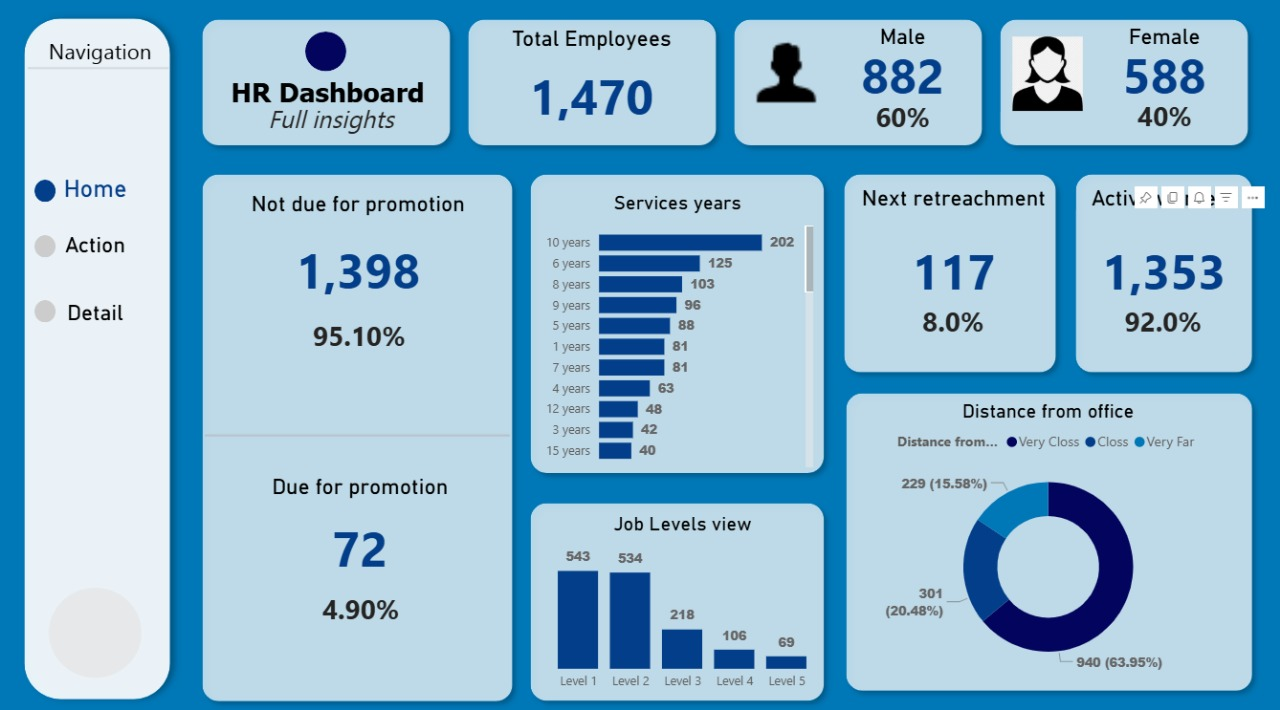

The page's visual inventory and layout, read from the dashboard file:
{"tool":"powerbi","page":{"name":"Home","canvas":[1280,720],"ordinal":0},"visuals":[{"type":"shape","box":[16.5,9.6,166.5,699.2],"z":0},{"type":"shape","box":[195.4,12.4,264.3,143.1],"z":1000},{"type":"shape","box":[459.7,12.4,264.3,143.1],"z":2000},{"type":"shape","box":[724,12.4,264.3,143.1],"z":3000},{"type":"shape","box":[988.2,12.4,264.3,143.1],"z":4000},{"type":"shape","box":[195.4,166.5,326.2,542.3],"z":5000},{"type":"shape","box":[521.6,166.2,309.7,315.2],"z":6000},{"type":"shape","box":[521.6,494.1,309.7,214.7],"z":7000},{"type":"shape","box":[834.8,384.2,421.6,314.1],"z":8000},{"type":"shape","box":[833.6,166.7,228.3,215],"z":9000},{"type":"shape","box":[1063.1,166.7,193.3,215],"z":10000},{"type":"textbox","box":[209.7,71.2,238.7,51.4],"z":11000},{"type":"textbox","box":[36.9,33,130.5,51.4],"z":12000},{"type":"textbox","box":[209.7,97.6,251.9,55.4],"z":13000},{"type":"shape","box":[305.9,33,40.9,39.6],"z":14000},{"type":"card","title":"Total Employees","fields":{"Values":["All Measures.Total Emp"]},"box":[468,27.5,246.4,112.9],"z":15000},{"type":"card","title":"Male","fields":{"Values":["All Measures.Male"]},"box":[814.8,26.2,170.7,75.7],"z":16000},{"type":"card","fields":{"Values":["All Measures.Male %"]},"box":[834.1,90.8,132.1,55.1],"z":17000},{"type":"card","title":"Female","fields":{"Values":["All Measures.Female"]},"box":[1068.7,26.2,183.1,75.7],"z":18000},{"type":"card","fields":{"Values":["All Measures.Female %"]},"box":[1083.9,90.8,152.8,53.7],"z":19000},{"type":"image","box":[736.3,26.2,95,90.8],"z":20000},{"type":"actionButton","title":"Home","box":[27.8,176.4,140.1,30.2],"z":21000},{"type":"image","box":[1004.7,33,79.8,84],"z":22000},{"type":"actionButton","title":"Action","box":[27.7,233.4,139.8,56.7],"z":23000},{"type":"card","title":"Active workers","fields":{"Values":["All Measures.On service"]},"box":[1058.3,186,203,142.6],"z":24000},{"type":"actionButton","title":"Detail","box":[27.7,300.7,139.8,58],"z":25000},{"type":"card","fields":{"Values":["All Measures.% Active workers"]},"box":[1082.4,296,153.4,53.2],"z":26000},{"type":"card","title":"Next retreachment","fields":{"Values":["All Measures.Due for retirment"]},"box":[843.2,186,215,142.6],"z":27000},{"type":"card","fields":{"Values":["All Measures.%Due for retirment"]},"box":[865,296,171.5,53.2],"z":28000},{"type":"columnChart","title":"Job Levels view","fields":{"Category":["HR Analytics Data.Job Level"],"Y":["All Measures.Total Emp"]},"box":[531.3,512,300,185.8],"z":29000},{"type":"barChart","title":"Services years","fields":{"Category":["HR Analytics Data.Total working Years"],"Y":["All Measures.Total Emp"]},"box":[536.4,192.1,280.3,280.3],"z":30000},{"type":"donutChart","title":"Distance from office","fields":{"Category":["HR Analytics Data.Distance from office"],"Y":["All Measures.Total Emp"]},"box":[840.8,399.9,408.3,282.7],"z":31000},{"type":"card","title":"Not due for promotion","fields":{"Values":["All Measures.Not Due"]},"box":[207.8,192.1,303.2,130.5],"z":32000},{"type":"card","title":"Due for promotion","fields":{"Values":["All Measures.Due for promotion"]},"box":[209,473.8,303.2,119.6],"z":33000},{"type":"shape","box":[206.6,427.7,303.2,14.5],"z":34000},{"type":"card","fields":{"Values":["All Measures.% Not due for promotion"]},"box":[283.5,309.7,152.8,53.7],"z":35000},{"type":"card","fields":{"Values":["All Measures.% Due for promotion"]},"box":[285.1,582.5,152.2,53.2],"z":36000},{"type":"shape","box":[36.9,180.7,21.1,22.4],"z":37000},{"type":"shape","box":[36.9,236,21.1,22.4],"z":38000},{"type":"shape","box":[36.9,300.7,21.1,22.4],"z":39000},{"type":"shape","box":[51.4,586.8,92.3,89.7],"z":40000},{"type":"shape","box":[30.2,61.6,140.1,15.7],"z":41000}]}

Visuals, with their boxes on the page's 1280x720 design canvas (x1, y1, x2, y2). These are canvas units, not pixel positions in the 1280x710 screenshot, which may show the page scaled, cropped or inside an application window:
shape: (x1=16, y1=10, x2=183, y2=709)
shape: (x1=195, y1=12, x2=460, y2=156)
shape: (x1=460, y1=12, x2=724, y2=156)
shape: (x1=724, y1=12, x2=988, y2=156)
shape: (x1=988, y1=12, x2=1252, y2=156)
shape: (x1=195, y1=166, x2=522, y2=709)
shape: (x1=522, y1=166, x2=831, y2=481)
shape: (x1=522, y1=494, x2=831, y2=709)
shape: (x1=835, y1=384, x2=1256, y2=698)
shape: (x1=834, y1=167, x2=1062, y2=382)
shape: (x1=1063, y1=167, x2=1256, y2=382)
textbox: (x1=210, y1=71, x2=448, y2=123)
textbox: (x1=37, y1=33, x2=167, y2=84)
textbox: (x1=210, y1=98, x2=462, y2=153)
shape: (x1=306, y1=33, x2=347, y2=73)
"Total Employees" card: (x1=468, y1=28, x2=714, y2=140)
"Male" card: (x1=815, y1=26, x2=986, y2=102)
card - All Measures.Male %: (x1=834, y1=91, x2=966, y2=146)
"Female" card: (x1=1069, y1=26, x2=1252, y2=102)
card - All Measures.Female %: (x1=1084, y1=91, x2=1237, y2=144)
image: (x1=736, y1=26, x2=831, y2=117)
"Home" actionButton: (x1=28, y1=176, x2=168, y2=207)
image: (x1=1005, y1=33, x2=1084, y2=117)
"Action" actionButton: (x1=28, y1=233, x2=168, y2=290)
"Active workers" card: (x1=1058, y1=186, x2=1261, y2=329)
"Detail" actionButton: (x1=28, y1=301, x2=168, y2=359)
card - All Measures.% Active workers: (x1=1082, y1=296, x2=1236, y2=349)
"Next retreachment" card: (x1=843, y1=186, x2=1058, y2=329)
card - All Measures.%Due for retirment: (x1=865, y1=296, x2=1036, y2=349)
"Job Levels view" columnChart: (x1=531, y1=512, x2=831, y2=698)
"Services years" barChart: (x1=536, y1=192, x2=817, y2=472)
"Distance from office" donutChart: (x1=841, y1=400, x2=1249, y2=683)
"Not due for promotion" card: (x1=208, y1=192, x2=511, y2=323)
"Due for promotion" card: (x1=209, y1=474, x2=512, y2=593)
shape: (x1=207, y1=428, x2=510, y2=442)
card - All Measures.% Not due for promotion: (x1=284, y1=310, x2=436, y2=363)
card - All Measures.% Due for promotion: (x1=285, y1=582, x2=437, y2=636)
shape: (x1=37, y1=181, x2=58, y2=203)
shape: (x1=37, y1=236, x2=58, y2=258)
shape: (x1=37, y1=301, x2=58, y2=323)
shape: (x1=51, y1=587, x2=144, y2=676)
shape: (x1=30, y1=62, x2=170, y2=77)
